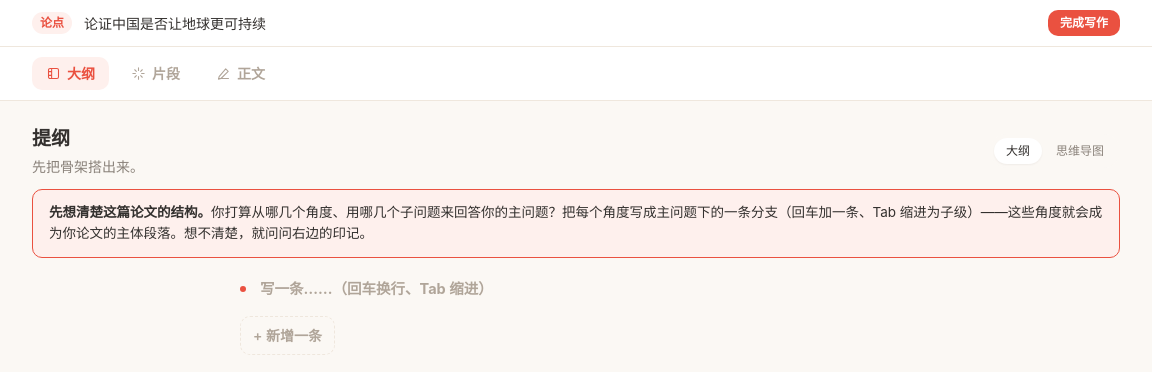
Test: WritingBlock · 整稿体检 (WA) › 片段 board: no longer auto-creates a 线索 section from the exploration graph (Item C)
Click the button "片段". click: point(156, 74)
box: [117, 57, 194, 90]
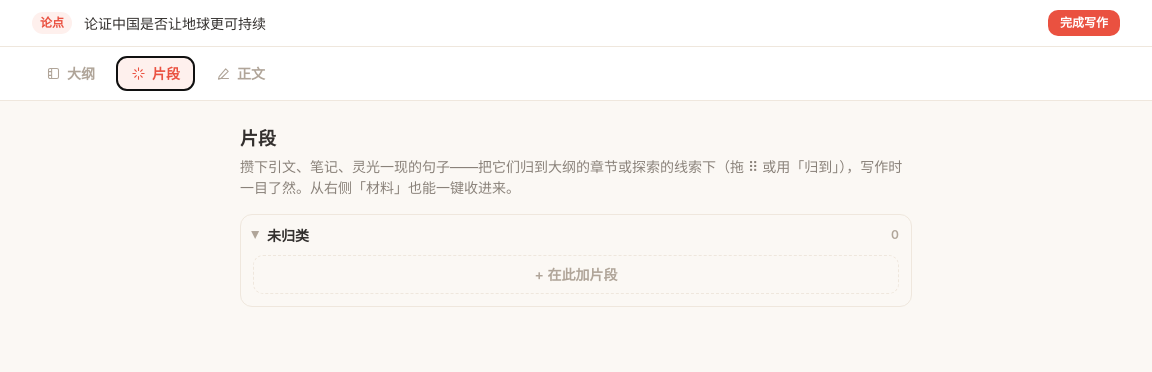
expect the text "未归类" is shown: met, box [267, 226, 309, 244]
